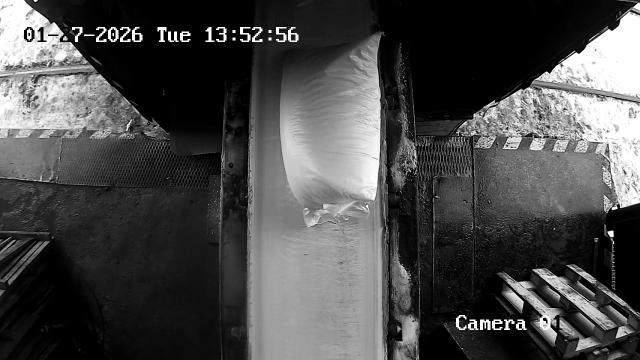bag: (281, 32, 380, 228)
